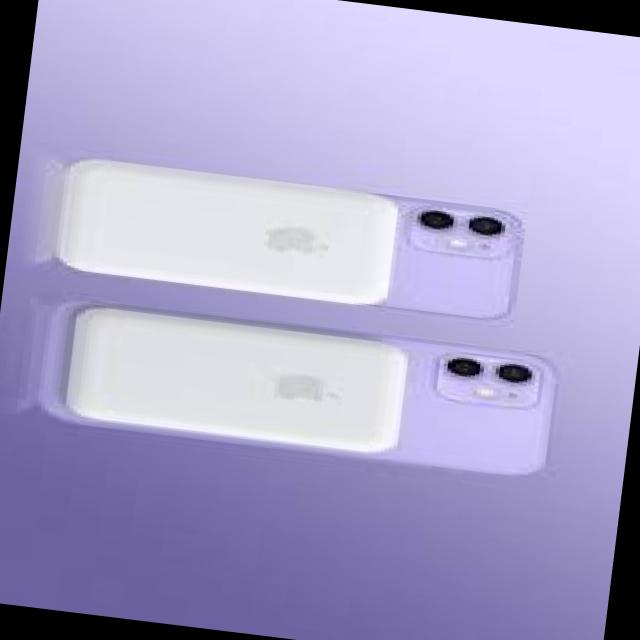portable-charger: (56, 156, 408, 312), (59, 300, 410, 456)
